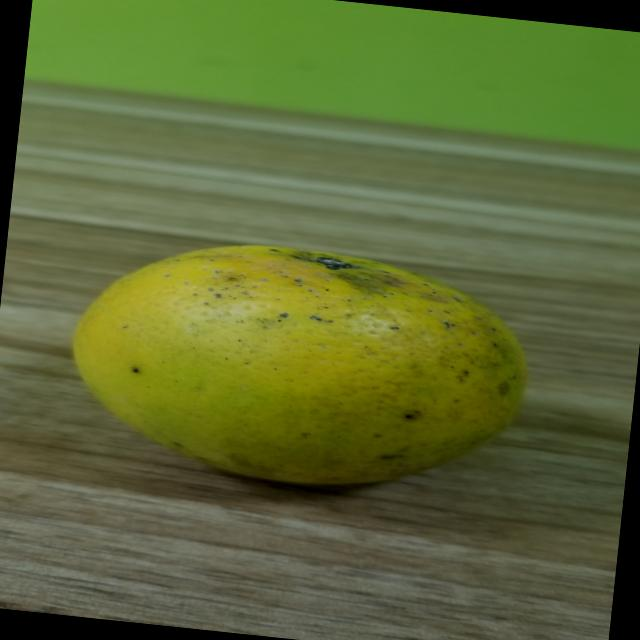Ripe orange: (59, 214, 562, 509)
